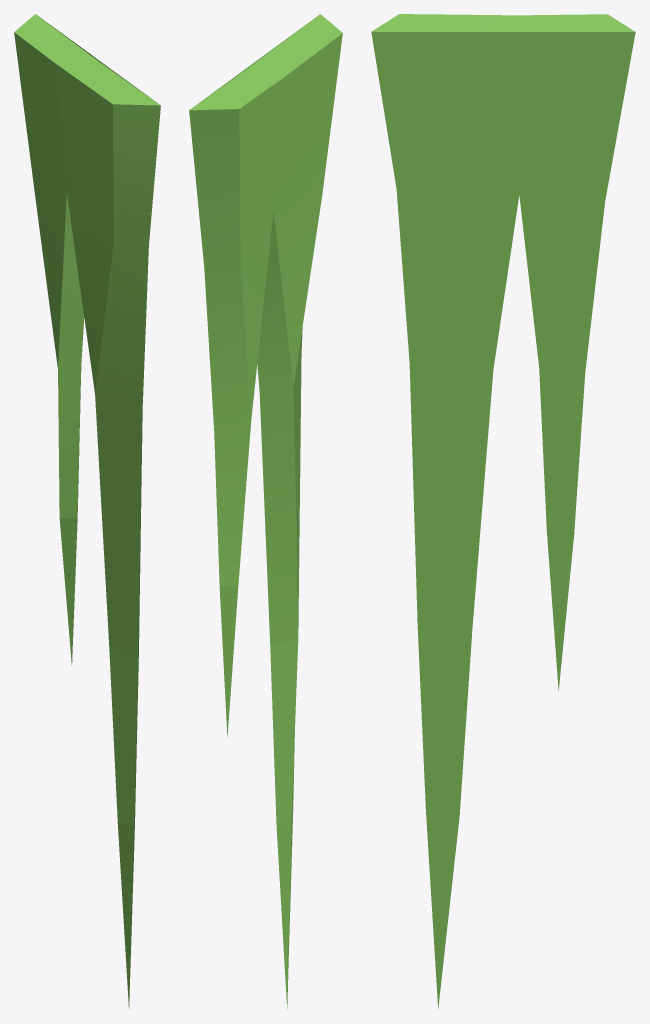
Rendered from mosses_A.fbx.
The picture shows the model from 3 angles, left to right: view 1: azimuth 30°, elevation 25°; view 2: azimuth 150°, elevation 25°; view 3: azimuth 270°, elevation 25°; orthographic projection. The views are drawn at different scales.
Parts seen in each view (by area): view 1: moss_A_thick, moss_A; view 2: moss_A_thick, moss_A; view 3: moss_A, moss_A_thick.
Part boxes in pixels (bbox=[...]): moss_A_thick: bbox=[14, 14, 160, 1006]; moss_A: bbox=[36, 14, 160, 1008]; moss_A_thick: bbox=[189, 14, 342, 1006]; moss_A: bbox=[189, 15, 318, 1008]; moss_A: bbox=[371, 32, 635, 1008]; moss_A_thick: bbox=[371, 14, 634, 31].
Size of the model in its own units: 2 by 50.92 by 12.47.
